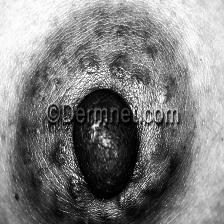Benign Marking or Mole: (90, 123, 112, 149)
